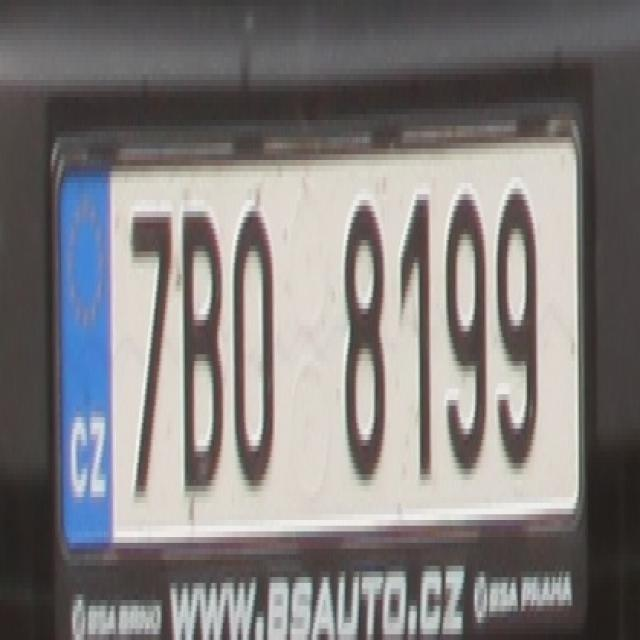0: (229, 200, 275, 491)
1: (399, 188, 432, 486)
7: (130, 206, 172, 508)
8: (342, 194, 388, 480)
9: (494, 177, 540, 457), (444, 194, 488, 463)
B: (182, 200, 226, 491)
